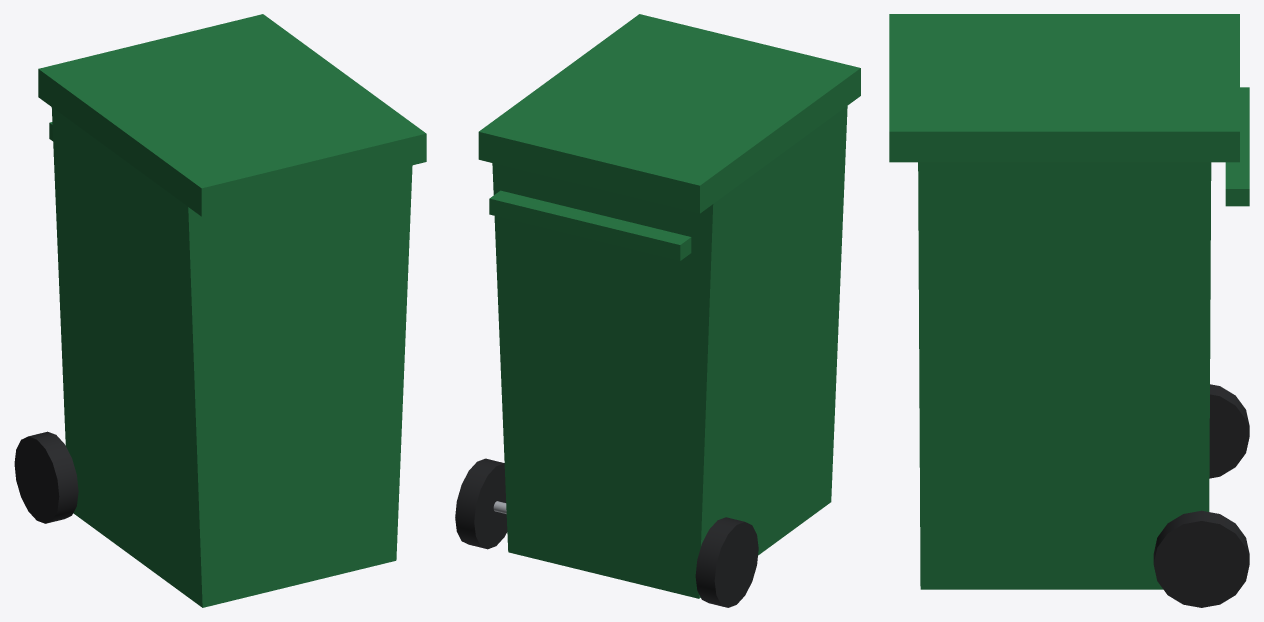
The model's file is thung_rac_240l.glb.
The picture shows the model from 3 angles, left to right: view 1: azimuth 30°, elevation 25°; view 2: azimuth 150°, elevation 25°; view 3: azimuth 270°, elevation 25°; orthographic projection. The views are drawn at different scales.
Parts seen in each view (by area): view 1: thung_rac_240l, nap_thung_rac; view 2: thung_rac_240l, nap_thung_rac; view 3: thung_rac_240l, nap_thung_rac.
Boxes of the visible parts, <box> form: thung_rac_240l: <box>14,107,412,607</box>; nap_thung_rac: <box>38,14,426,216</box>; thung_rac_240l: <box>455,106,847,607</box>; nap_thung_rac: <box>478,14,860,213</box>; thung_rac_240l: <box>918,87,1249,607</box>; nap_thung_rac: <box>889,14,1239,162</box>.
Bounding box in the file's own units: 0.68 × 1.07 × 0.75.
